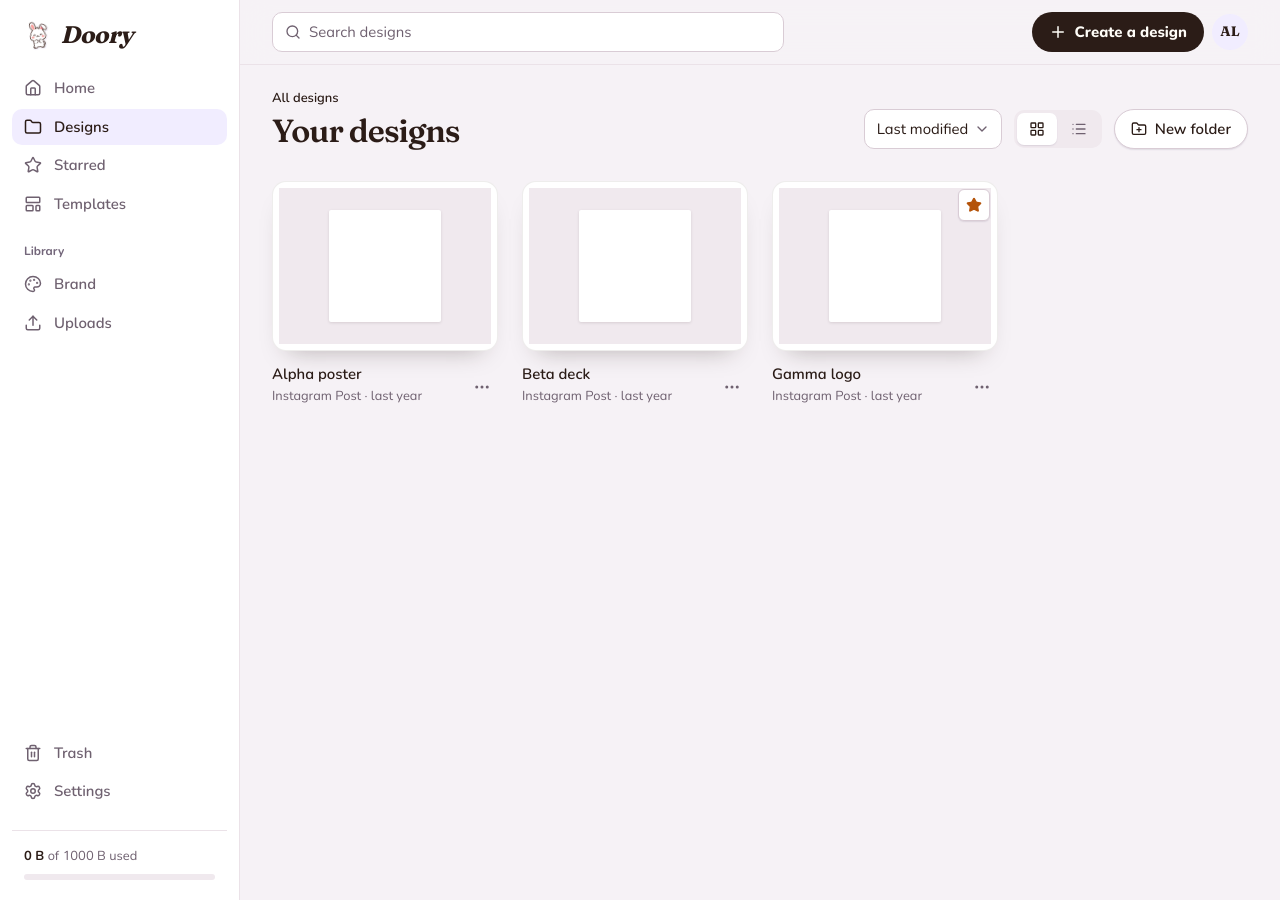
designs page › duplicates a design and offers to open the copy
Expected: the heading "Your designs" is shown, [272, 112, 460, 149]
What coordinates should you click on to do the following:
click the button named "More actions for Alpha poster"
I would click on:
 (482, 387)
Its box is [466, 371, 498, 403].
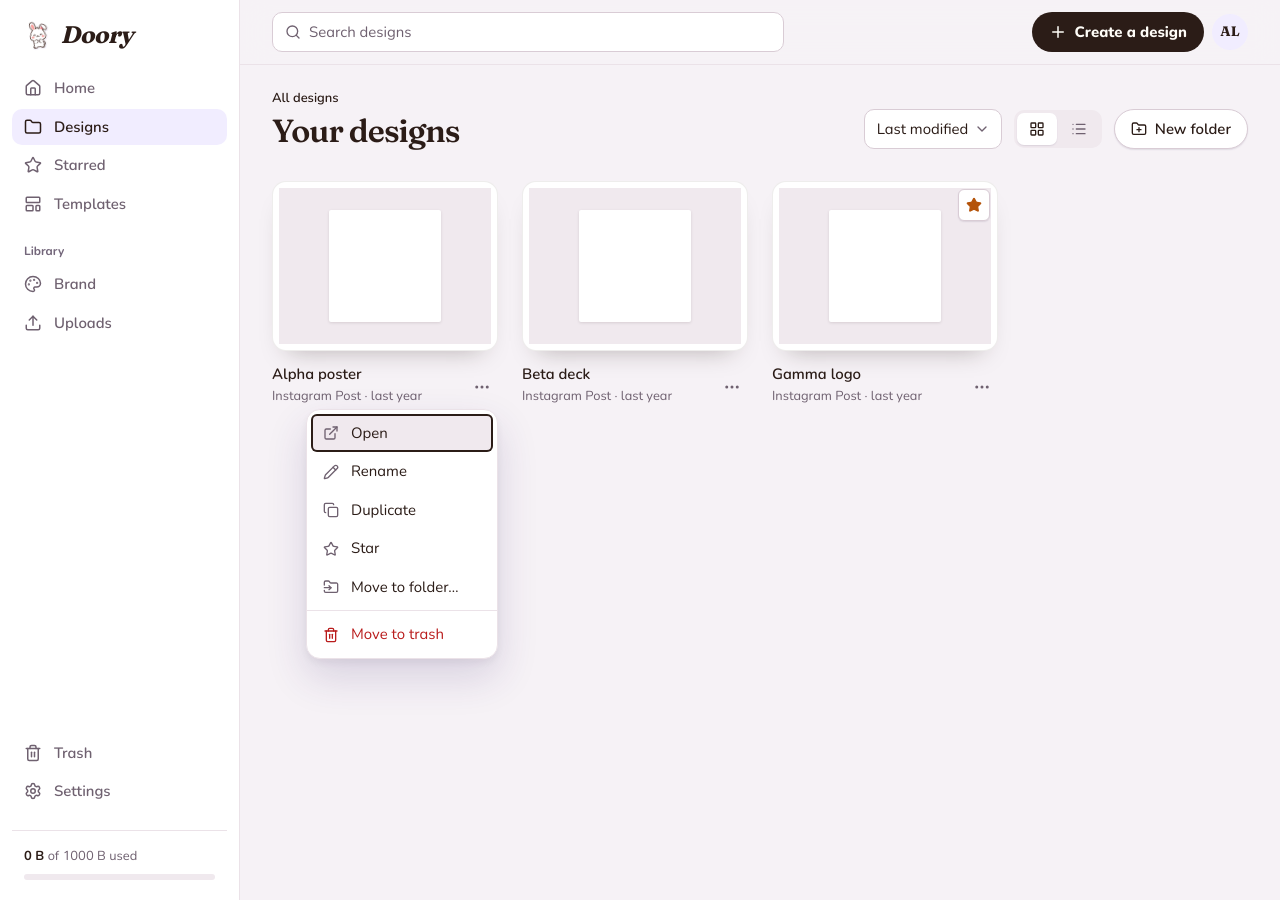
What coordinates should you click on to do the following:
click the menu item "Duplicate"
I would click on:
 (402, 510)
Its box is [311, 491, 493, 529].
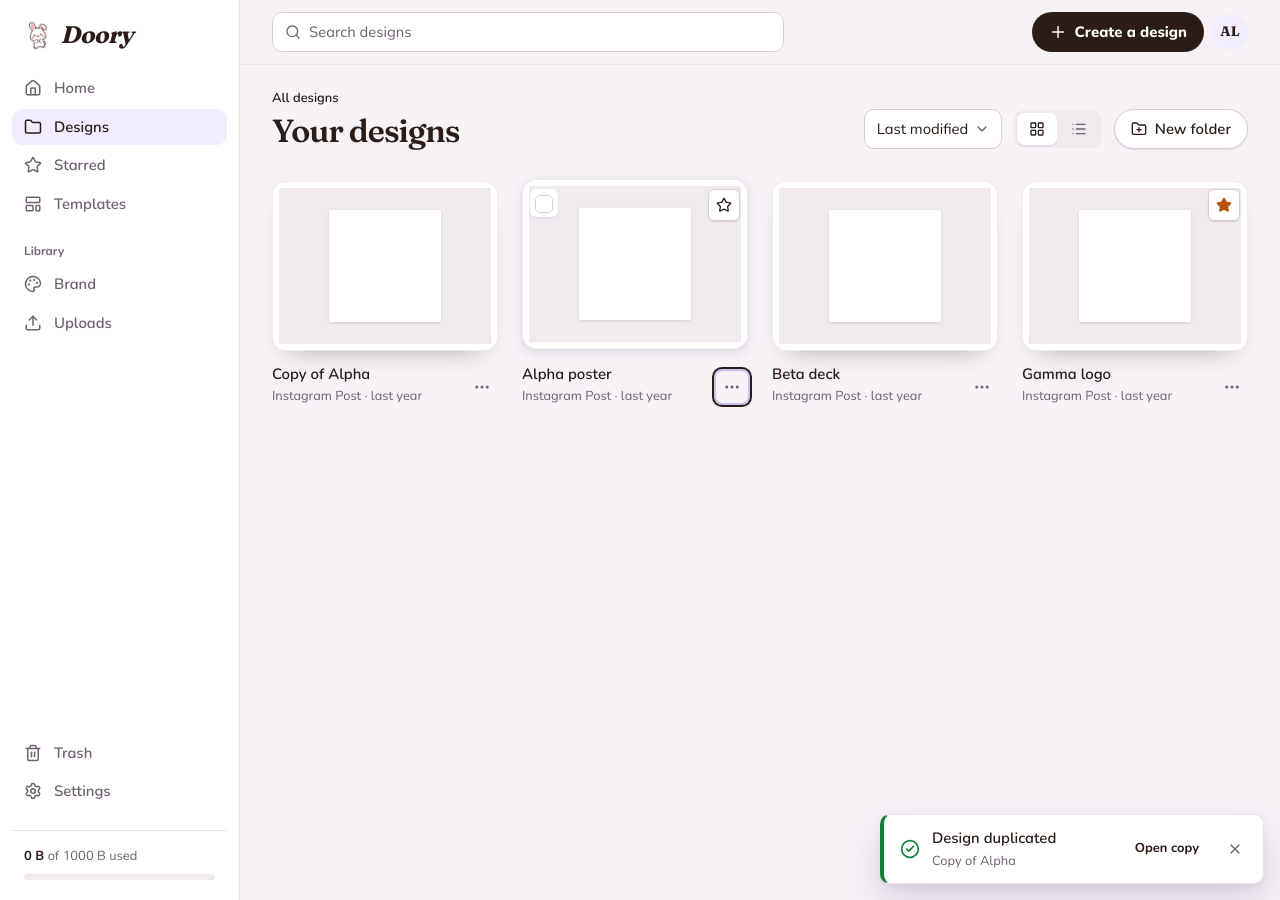
Expected: the text "Design duplicated" is shown, [932, 828, 1056, 848]
Expected: the button "Open copy" is shown, [1127, 835, 1207, 863]
